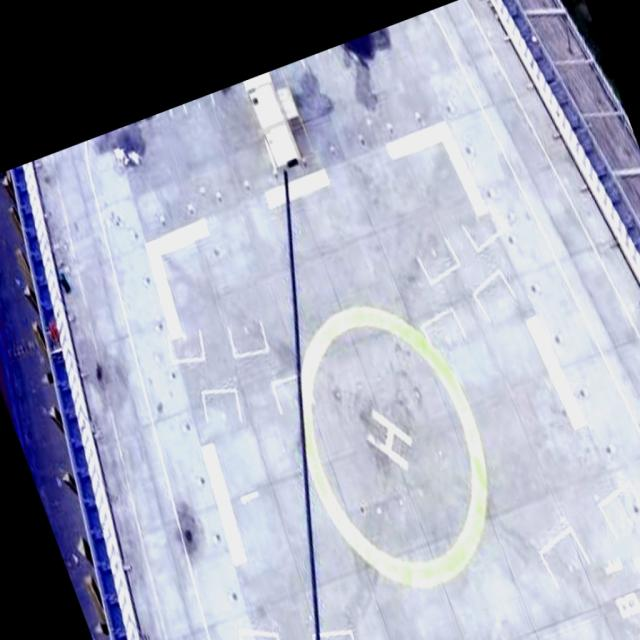helipad: (293, 299, 489, 593)
